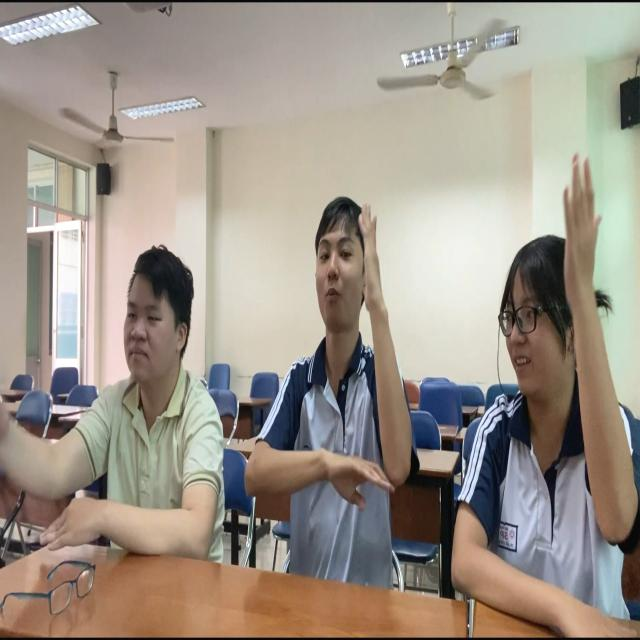raise_hand: (433, 146, 640, 640), (217, 189, 419, 576)
